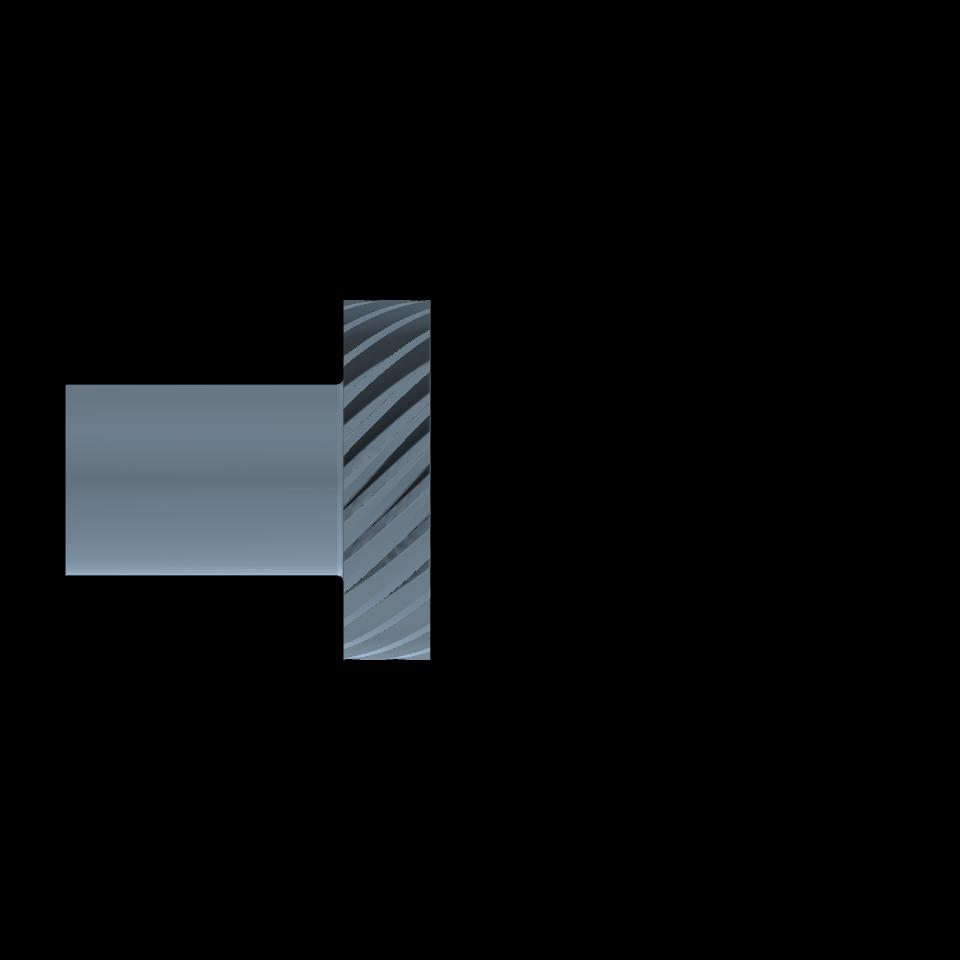Helical: (344, 300, 429, 660)
